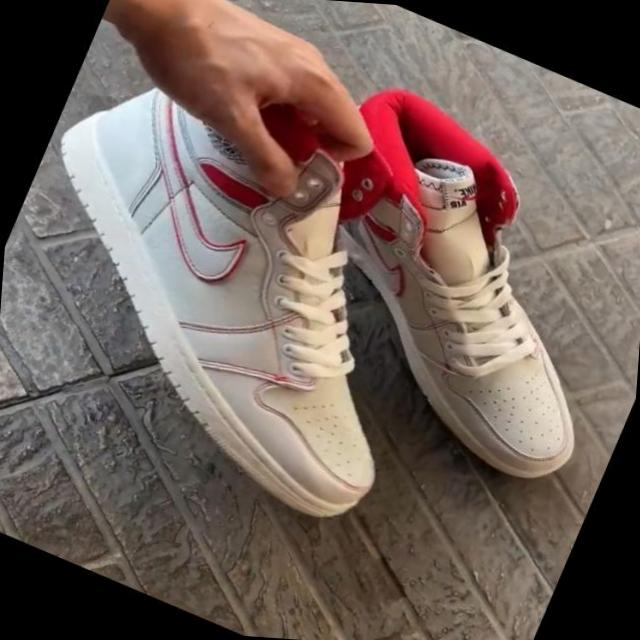nike_fake_jordan: (207, 49, 640, 502)
